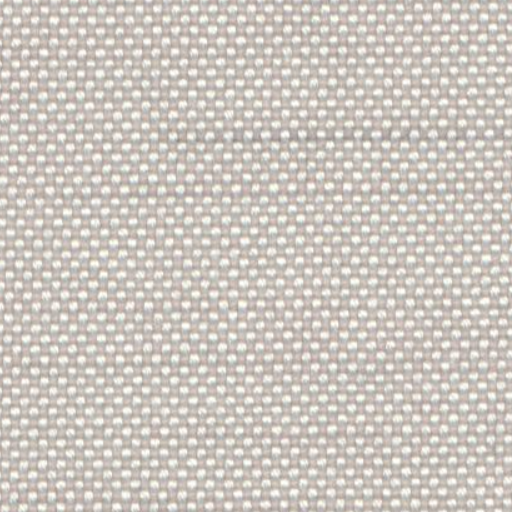WuZi: (168, 119, 500, 152)
